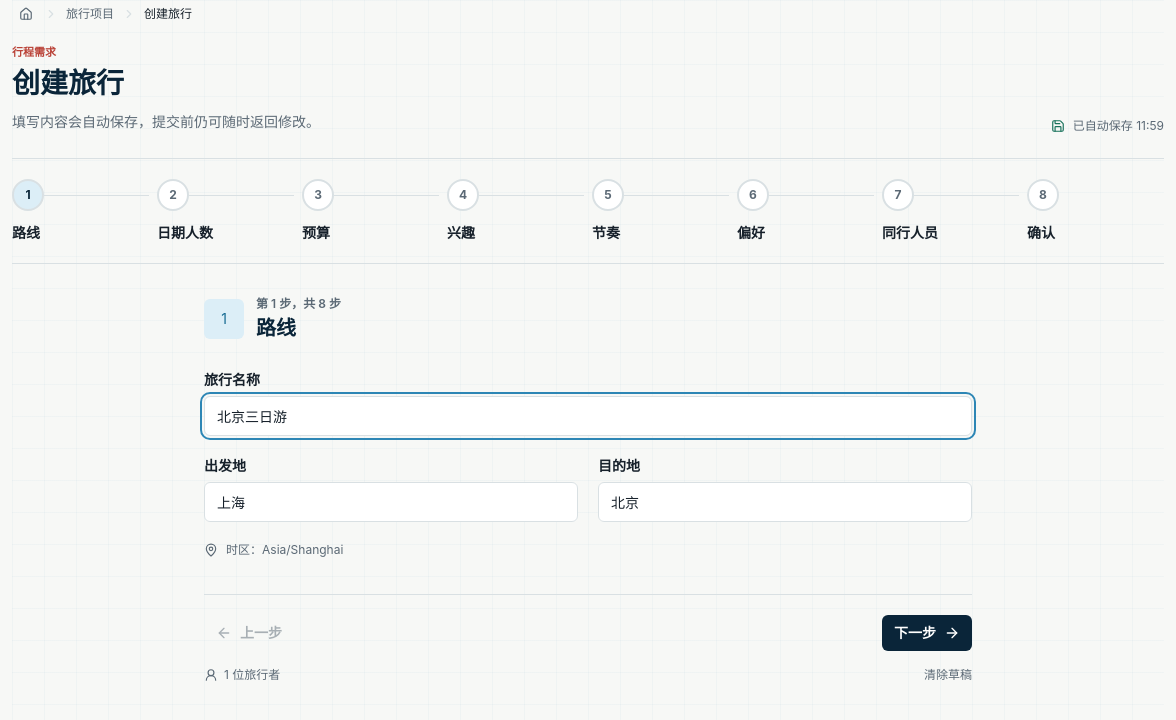
Test: TripWizardPage › advances the Stepper only after the current step is valid
Step 1. Click the button "下一步" → (927, 633), box [882,615,972,651]
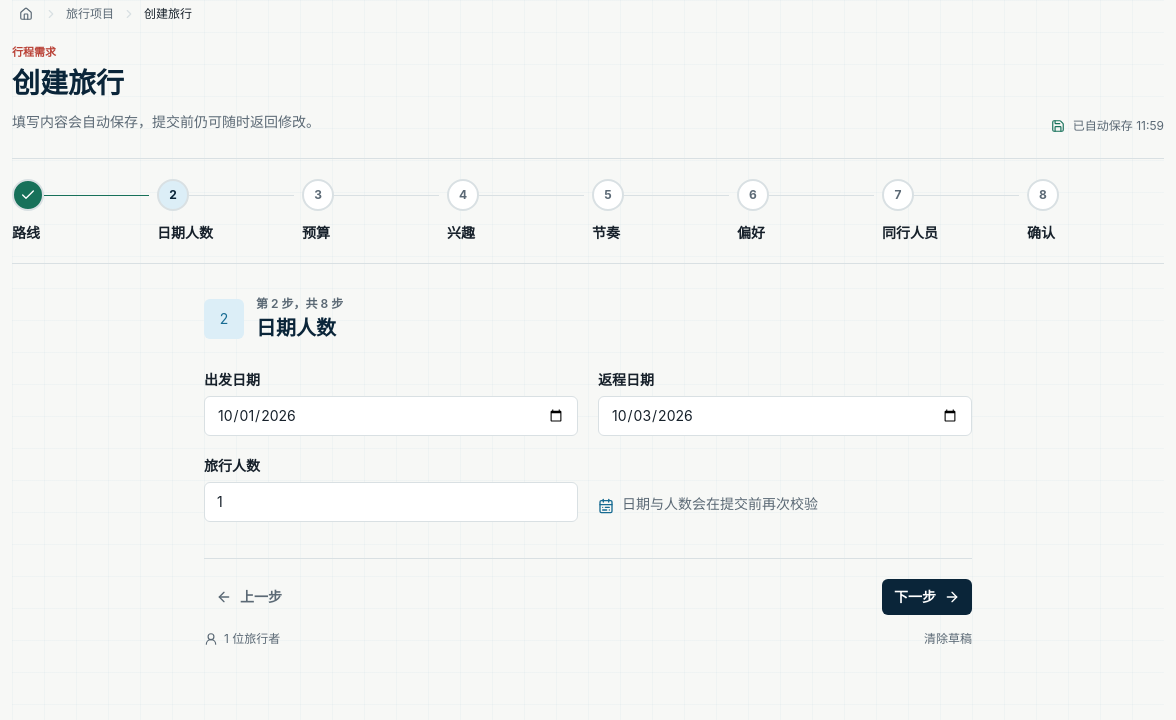
Expected: the heading "日期人数" is shown, [256,314,343,342]
